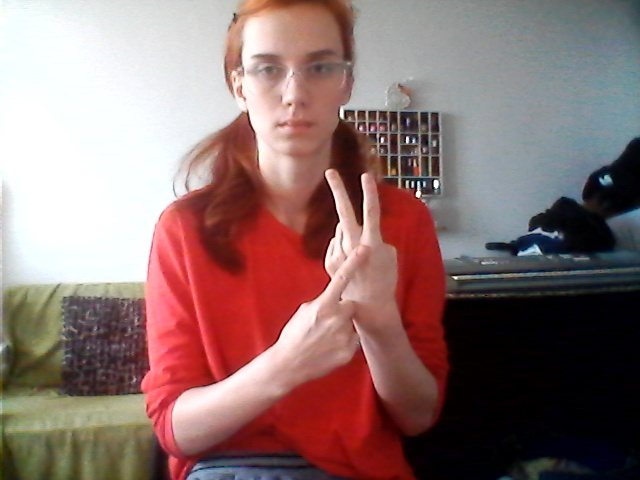y: (272, 161, 409, 394)
